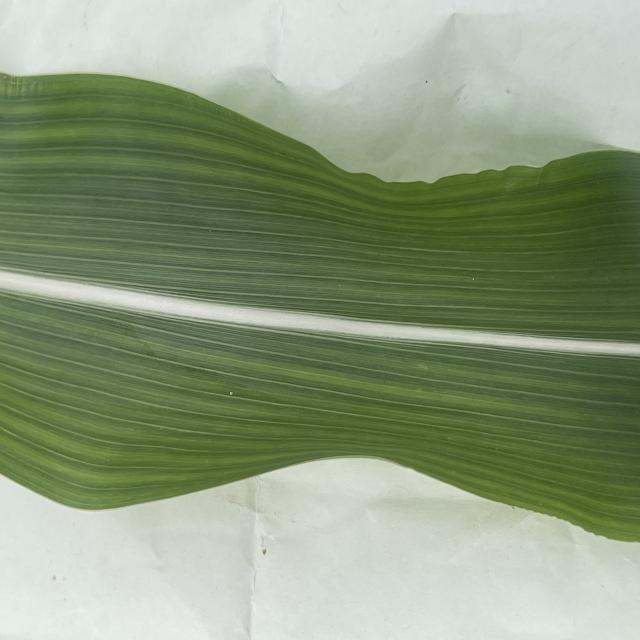millet_healthy: (3, 76, 640, 540)
